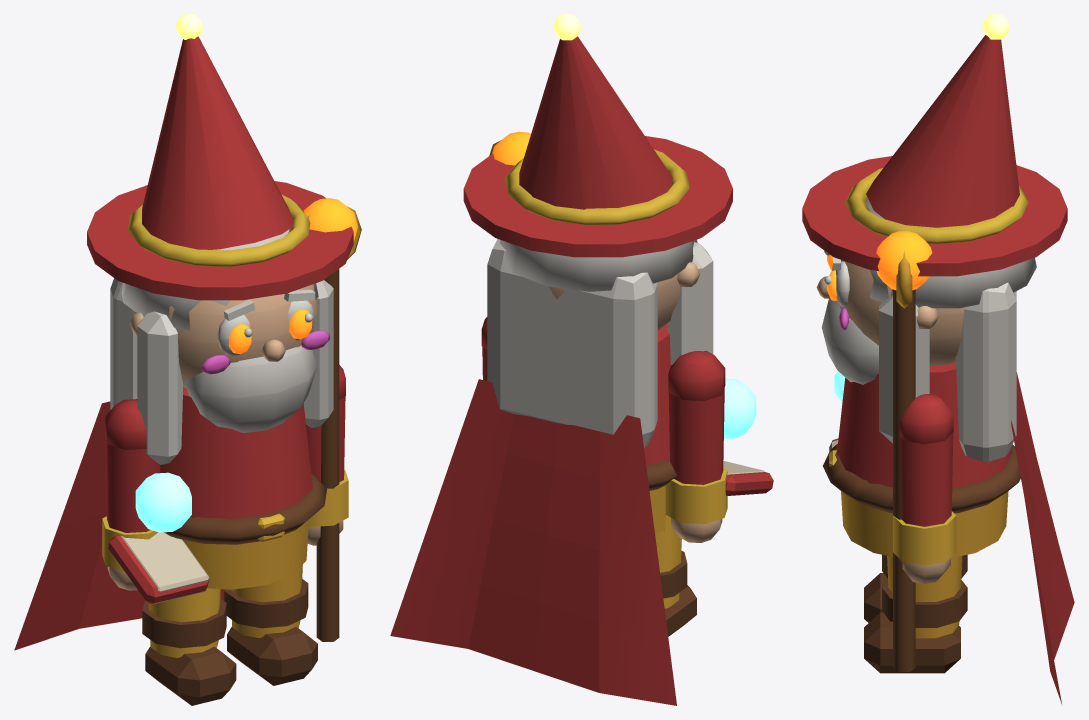
File: hero_magnus.glb
3 renders of one model, left to right at view 1: azimuth 30°, elevation 25°; view 2: azimuth 150°, elevation 25°; view 3: azimuth 270°, elevation 25°, orthographic.
Parts seen in each view (by area): view 1: body_t0_palette, arml_t0_palette, legl_t0_palette, armr_t0_palette, legr_t0_palette, arml_t0_rune, armr_t0_fire, body_t0_fire, body_t0_glow_gold; view 2: body_t0_palette, arml_t0_palette, legl_t0_palette, arml_t0_rune, armr_t0_fire, body_t0_glow_gold; view 3: body_t0_palette, armr_t0_palette, legr_t0_palette, armr_t0_fire, legl_t0_palette, body_t0_glow_gold.
Boxes of the visible parts, x1,y1,x2,y2 form: body_t0_palette: (14,36,353,650); arml_t0_palette: (102,399,209,603); legl_t0_palette: (142,588,236,705); armr_t0_palette: (306,206,361,641); legr_t0_palette: (224,564,317,685); arml_t0_rune: (135,472,191,532); armr_t0_fire: (303,198,357,241); body_t0_fire: (229,309,312,353); body_t0_glow_gold: (175,14,203,39); body_t0_palette: (390,36,732,705); arml_t0_palette: (665,351,773,542); legl_t0_palette: (655,515,696,636); arml_t0_rune: (724,378,756,438); armr_t0_fire: (492,131,530,165); body_t0_glow_gold: (553,14,581,40); body_t0_palette: (802,35,1074,703); armr_t0_palette: (893,251,956,671); legr_t0_palette: (864,556,967,673); armr_t0_fire: (876,231,932,290); legl_t0_palette: (864,554,967,622); body_t0_glow_gold: (982,14,1010,39).
Bounding box in the file's own units: 0.32 × 0.684 × 0.267.
